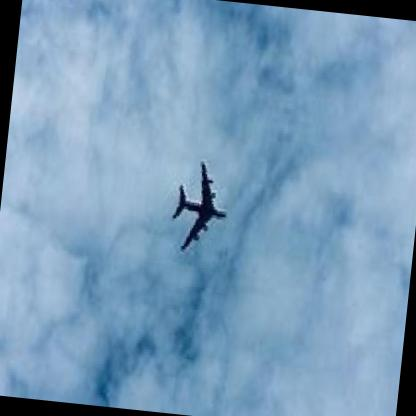plane: (154, 147, 242, 270)
